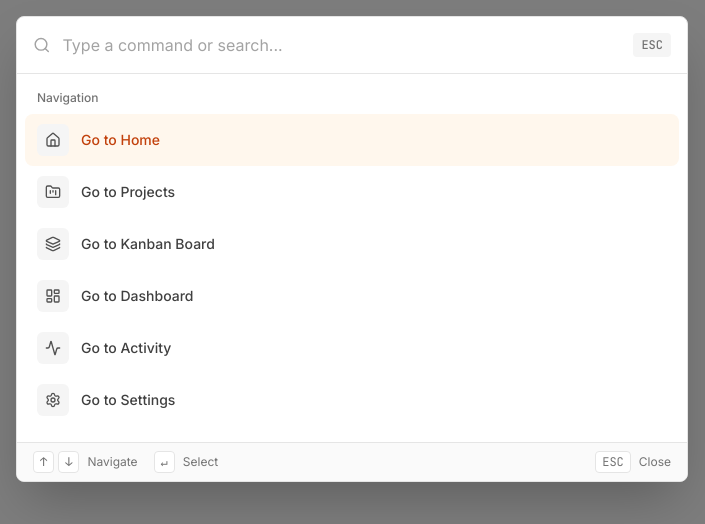
Test case: CommandPalette › Search Functionality › should show "No results found" when search has no matches
Type "nonexistentcommand" into the dropdown with placeholder "Type a command or search...".
click(342, 45); type("nonexistentcommand")  # box left=62, top=17, right=621, bottom=73
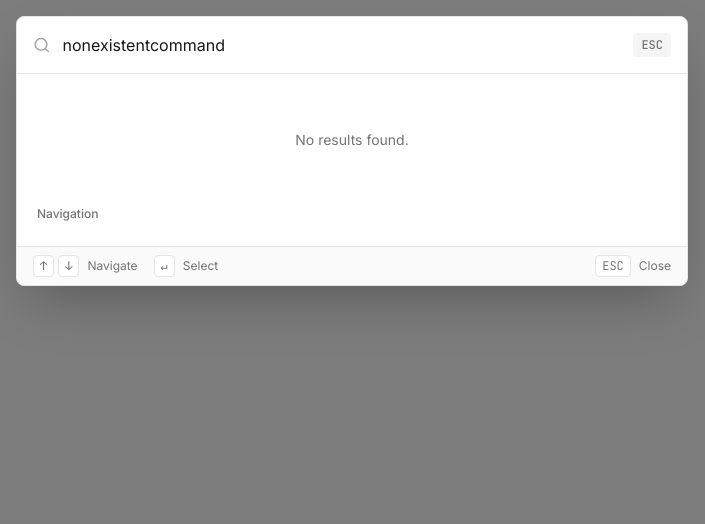
Now the text "No results found." is shown, box left=295, top=131, right=409, bottom=148
